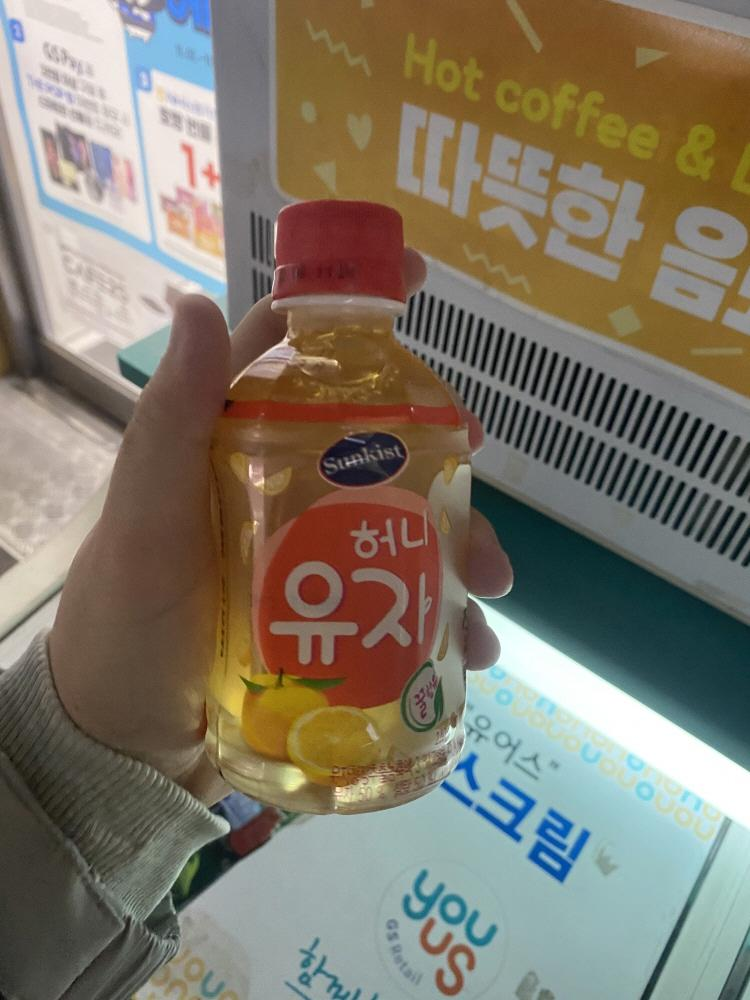honeyyuja: (198, 188, 489, 830)
